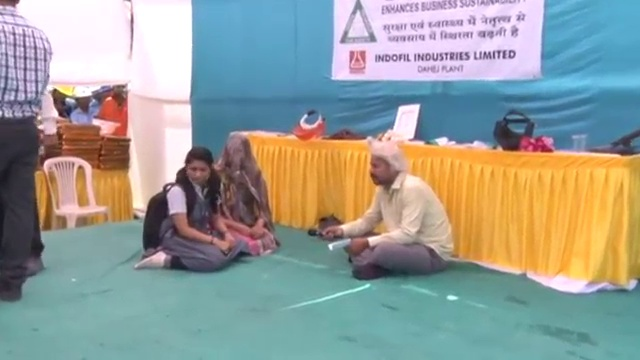helmet: (92, 119, 120, 137), (72, 86, 93, 99), (55, 85, 72, 98)
helmet_off: (358, 143, 410, 193), (219, 135, 257, 182), (179, 147, 213, 194), (112, 84, 127, 98)
helmet_on: (71, 86, 93, 111), (51, 84, 72, 105)
person: (323, 135, 453, 279), (0, 0, 53, 297), (140, 142, 241, 278), (200, 130, 275, 258), (99, 84, 129, 138), (69, 87, 100, 127)
